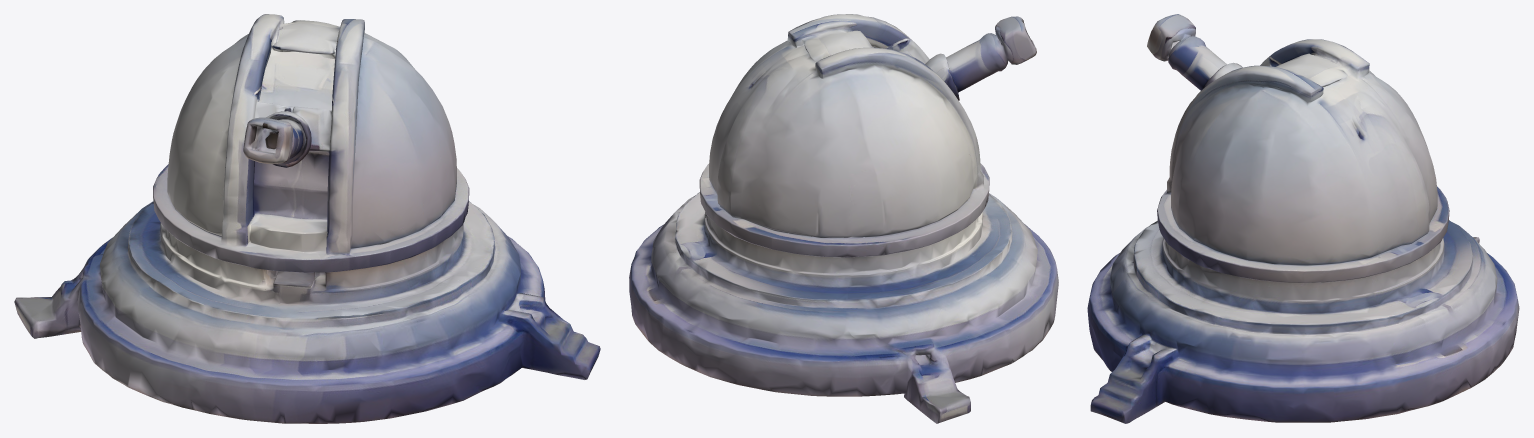
The model's file is stars.glb.
The picture shows the model from 3 angles, left to right: view 1: azimuth 30°, elevation 25°; view 2: azimuth 150°, elevation 25°; view 3: azimuth 270°, elevation 25°; orthographic projection. The views are drawn at different scales.
Parts seen in each view (by area): view 1: tripo_node_04550591-d775-4158-99f2-4caeab354868; view 2: tripo_node_04550591-d775-4158-99f2-4caeab354868; view 3: tripo_node_04550591-d775-4158-99f2-4caeab354868.
Part boxes in pixels (x1,y1,x2,y2): tripo_node_04550591-d775-4158-99f2-4caeab354868: (14,14,600,423); tripo_node_04550591-d775-4158-99f2-4caeab354868: (629,14,1058,423); tripo_node_04550591-d775-4158-99f2-4caeab354868: (1087,14,1519,423).
Size of the model in its own units: 1 by 0.7242 by 0.9893.
1 material, 1 textured.
